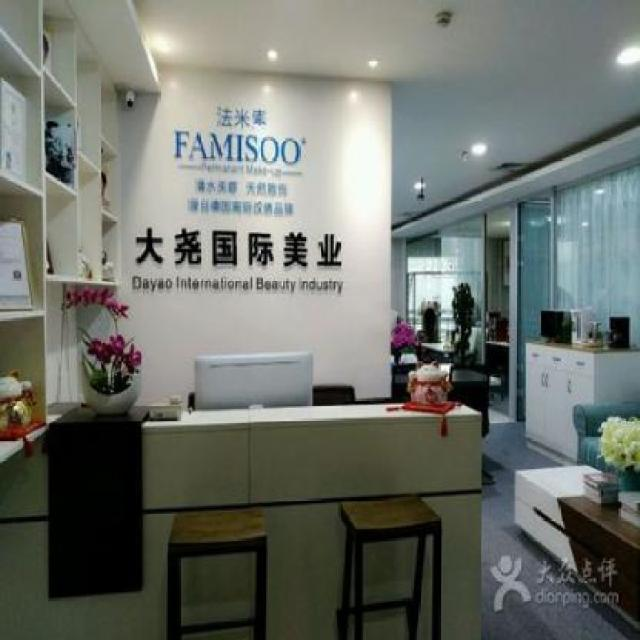frontdesk: (0, 374, 492, 640)
